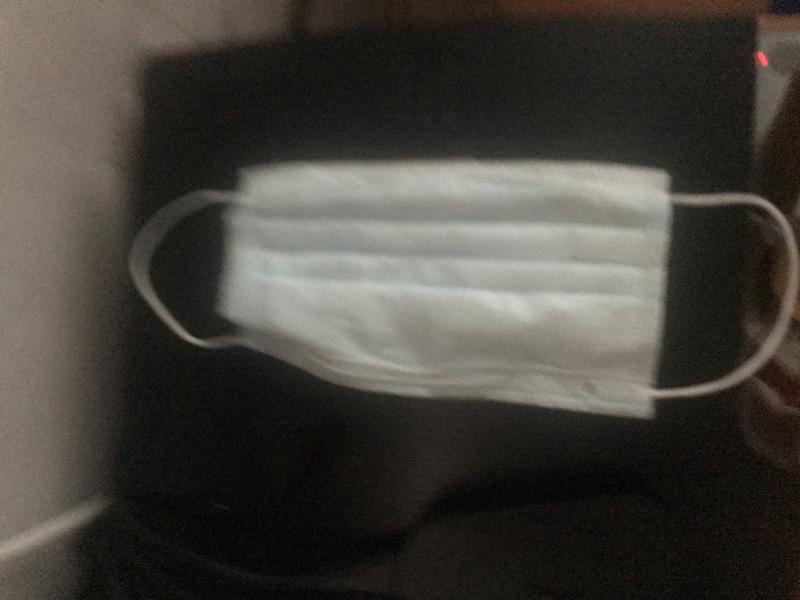medical_mask: (129, 164, 796, 422)
